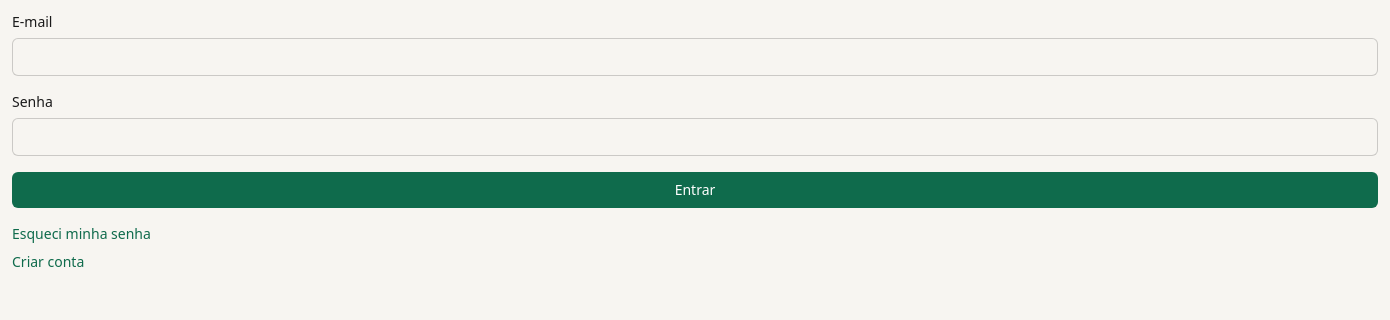
Scenario: LoginForm (LOG-05, LOG-06, LOG-08, LOG-10, LOG-13) › shows account suspended message for 403
Type "user@example.com" into the field labelled "E-mail" at (695, 57), box x1=12 y1=38 x2=1378 y2=76
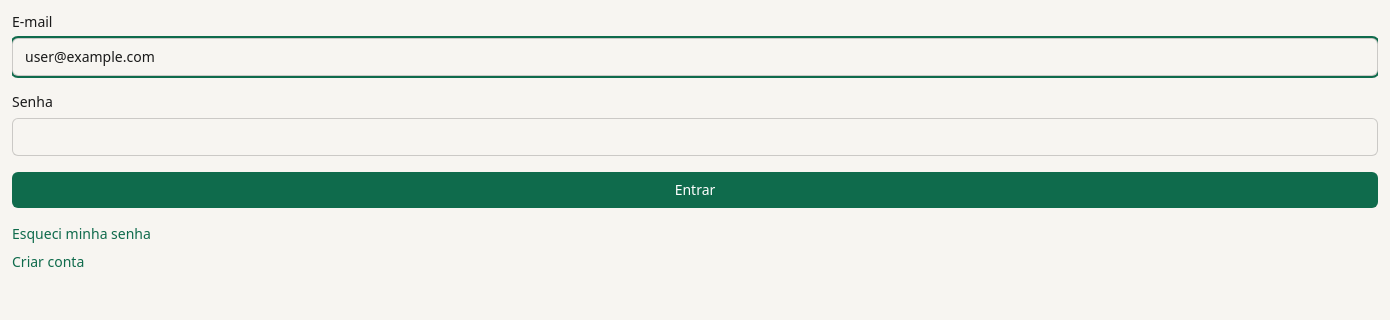
Type "secret" into the password field labelled "Senha" at (695, 137), box x1=12 y1=118 x2=1378 y2=156
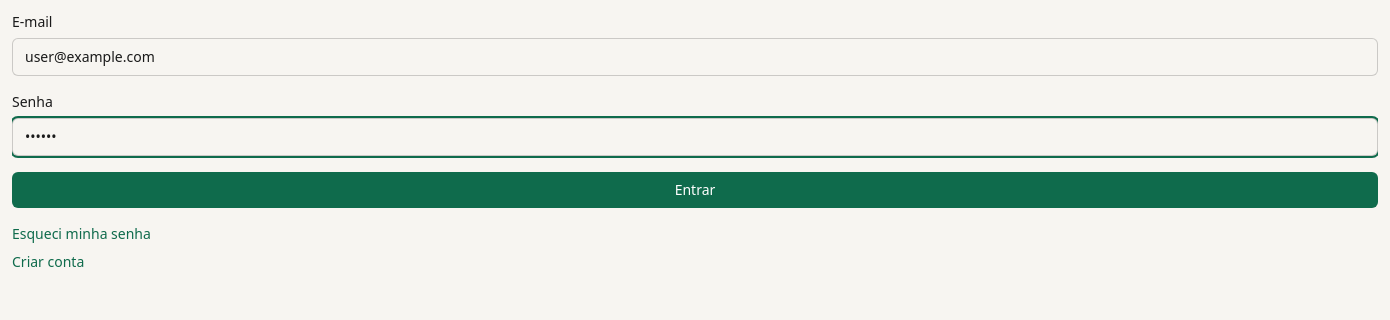
Click the button "Entrar" at (695, 190), box x1=12 y1=172 x2=1378 y2=208
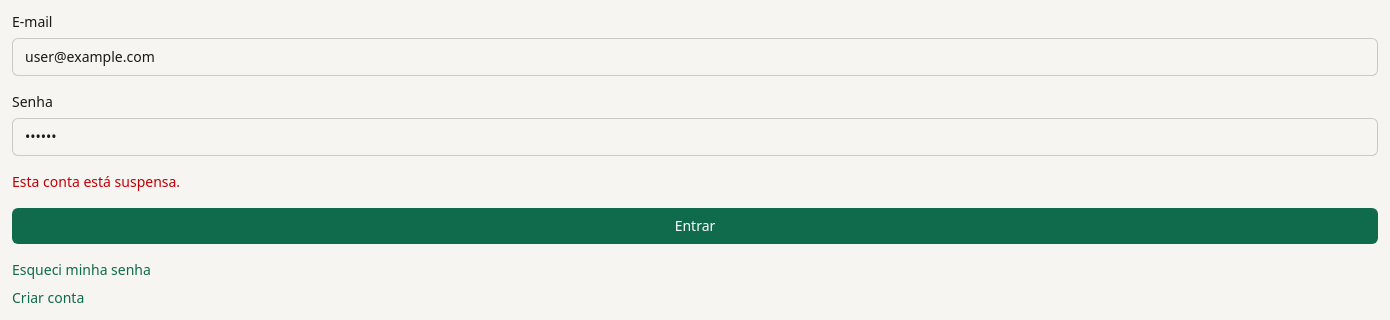
Expected: the message reads "Esta conta está suspensa.", x1=12 y1=172 x2=180 y2=191
